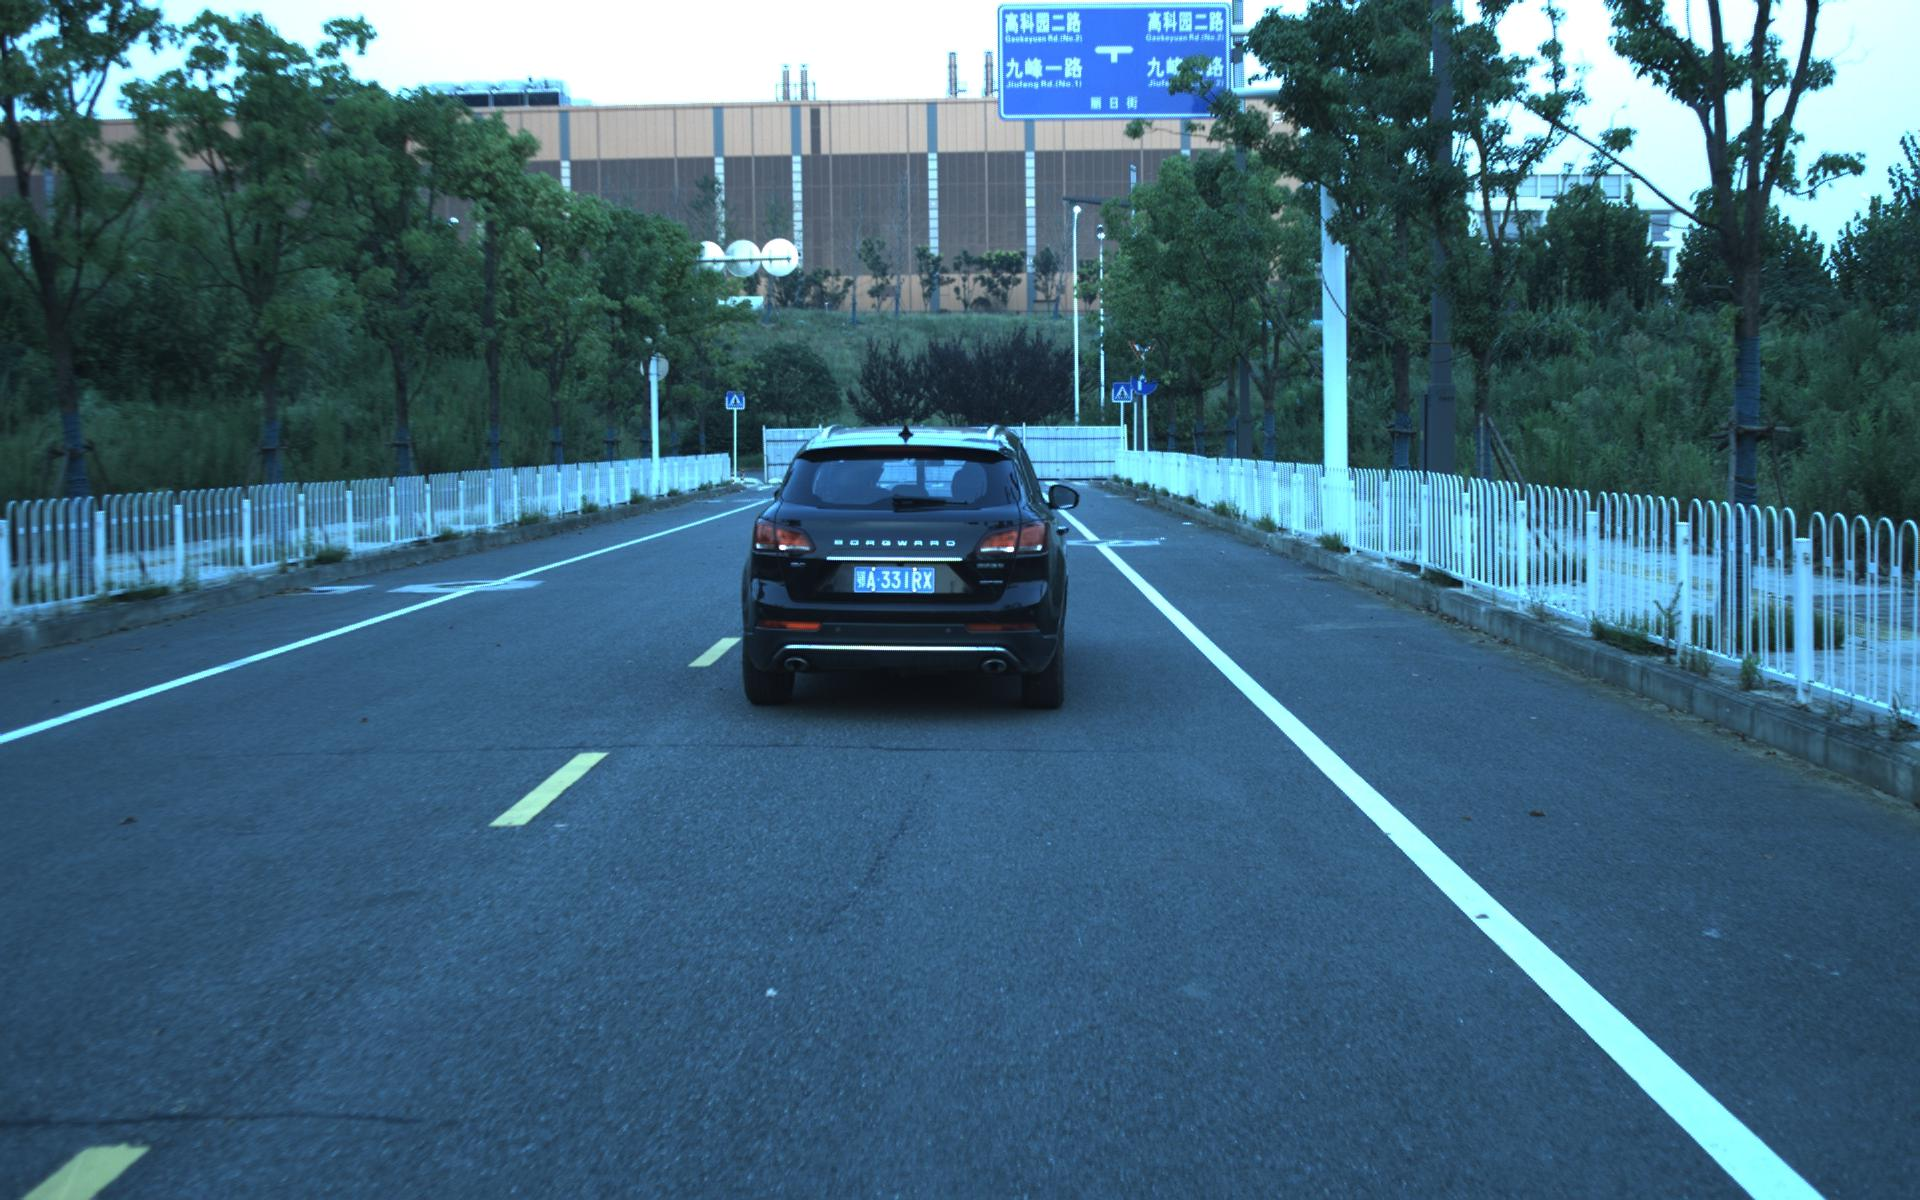Car: (735, 418, 1069, 713)
